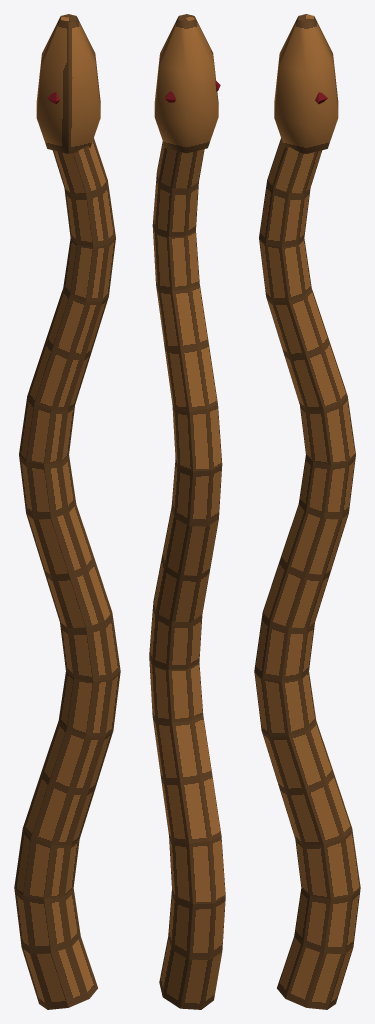
The model's file is serpent_wand.glb.
The picture shows the model from 3 angles, left to right: view 1: azimuth 90°, elevation 25°; view 2: azimuth 210°, elevation 25°; view 3: azimuth 270°, elevation 25°; orthographic projection.
Visible parts, largest first — view 1: serpent_wand; view 2: serpent_wand; view 3: serpent_wand.
Boxes of the visible parts, left/top/right/bottom form: serpent_wand: left=14, top=14, right=120, bottom=1009; serpent_wand: left=149, top=14, right=225, bottom=1009; serpent_wand: left=254, top=14, right=360, bottom=1009.
Bounding box in the file's own units: 0.024 × 0.3528 × 0.0345.
Materials: 1 (1 with a texture image).
